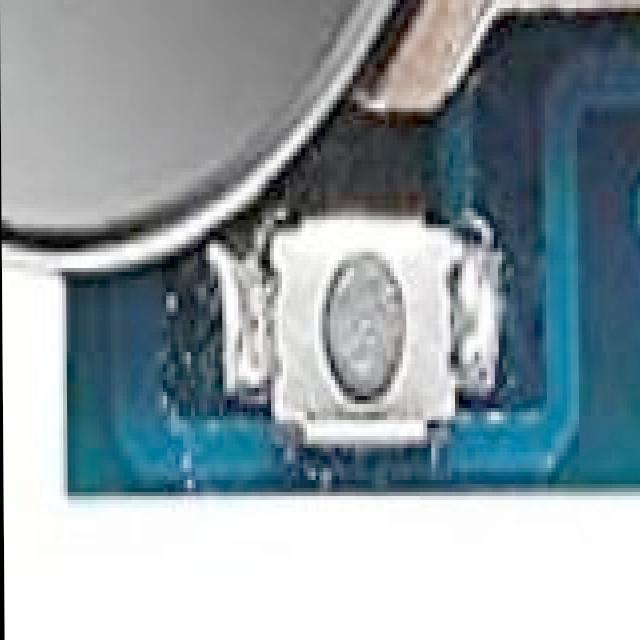battery: (0, 0, 489, 240)
buzzer: (636, 0, 640, 8)
switch: (183, 236, 515, 480)
